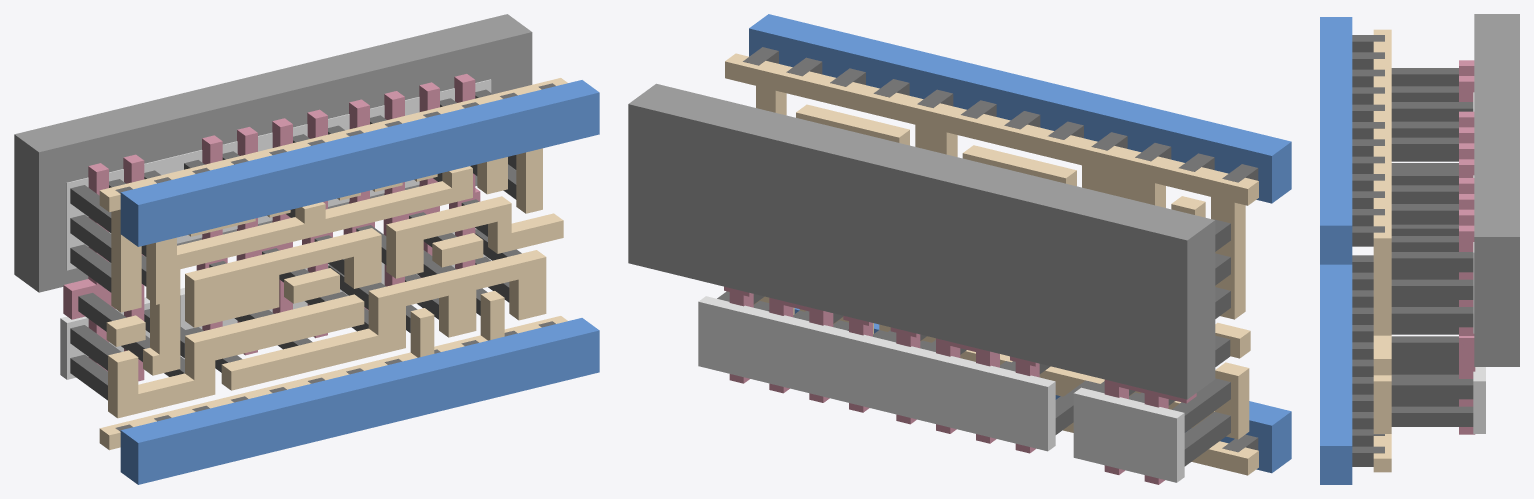
File: sky130_fd_sc_hd__o221ai_2.gds.gltf
The picture shows the model from 3 angles, left to right: view 1: azimuth 30°, elevation 25°; view 2: azimuth 150°, elevation 25°; view 3: azimuth 270°, elevation 25°; orthographic projection. The views are drawn at different scales.
Visible parts, largest first — view 1: sky130_fd_sc_hd__o221ai_2_li1, sky130_fd_sc_hd__o221ai_2_met1, sky130_fd_sc_hd__o221ai_2_nwell, sky130_fd_sc_hd__o221ai_2_licon, sky130_fd_sc_hd__o221ai_2_poly, sky130_fd_sc_hd__o221ai_2_diff, sky130_fd_sc_hd__o221ai_2_mcon; view 2: sky130_fd_sc_hd__o221ai_2_nwell, sky130_fd_sc_hd__o221ai_2_diff, sky130_fd_sc_hd__o221ai_2_li1, sky130_fd_sc_hd__o221ai_2_met1, sky130_fd_sc_hd__o221ai_2_licon, sky130_fd_sc_hd__o221ai_2_mcon, sky130_fd_sc_hd__o221ai_2_poly; view 3: sky130_fd_sc_hd__o221ai_2_licon, sky130_fd_sc_hd__o221ai_2_nwell, sky130_fd_sc_hd__o221ai_2_met1, sky130_fd_sc_hd__o221ai_2_mcon, sky130_fd_sc_hd__o221ai_2_li1, sky130_fd_sc_hd__o221ai_2_poly, sky130_fd_sc_hd__o221ai_2_diff.
Boxes of the visible parts, <box> form: sky130_fd_sc_hd__o221ai_2_li1: <box>99,78,567,450</box>; sky130_fd_sc_hd__o221ai_2_met1: <box>120,80,599,484</box>; sky130_fd_sc_hd__o221ai_2_nwell: <box>14,14,532,292</box>; sky130_fd_sc_hd__o221ai_2_licon: <box>70,89,521,400</box>; sky130_fd_sc_hd__o221ai_2_poly: <box>63,74,480,381</box>; sky130_fd_sc_hd__o221ai_2_diff: <box>60,79,491,379</box>; sky130_fd_sc_hd__o221ai_2_mcon: <box>115,83,555,431</box>; sky130_fd_sc_hd__o221ai_2_nwell: <box>628,83,1215,399</box>; sky130_fd_sc_hd__o221ai_2_diff: <box>698,296,1184,482</box>; sky130_fd_sc_hd__o221ai_2_li1: <box>725,53,1258,475</box>; sky130_fd_sc_hd__o221ai_2_met1: <box>749,14,1291,473</box>; sky130_fd_sc_hd__o221ai_2_licon: <box>717,219,1230,466</box>; sky130_fd_sc_hd__o221ai_2_mcon: <box>743,47,1258,452</box>; sky130_fd_sc_hd__o221ai_2_poly: <box>724,286,1196,484</box>; sky130_fd_sc_hd__o221ai_2_licon: <box>1391,68,1473,426</box>; sky130_fd_sc_hd__o221ai_2_nwell: <box>1474,14,1519,366</box>; sky130_fd_sc_hd__o221ai_2_met1: <box>1320,17,1352,484</box>; sky130_fd_sc_hd__o221ai_2_mcon: <box>1352,35,1384,466</box>; sky130_fd_sc_hd__o221ai_2_li1: <box>1373,29,1391,472</box>; sky130_fd_sc_hd__o221ai_2_poly: <box>1459,60,1475,434</box>; sky130_fd_sc_hd__o221ai_2_diff: <box>1473,92,1485,433</box>.
Bounding box in the file's own units: 5.9 × 3.2 × 2.24.
